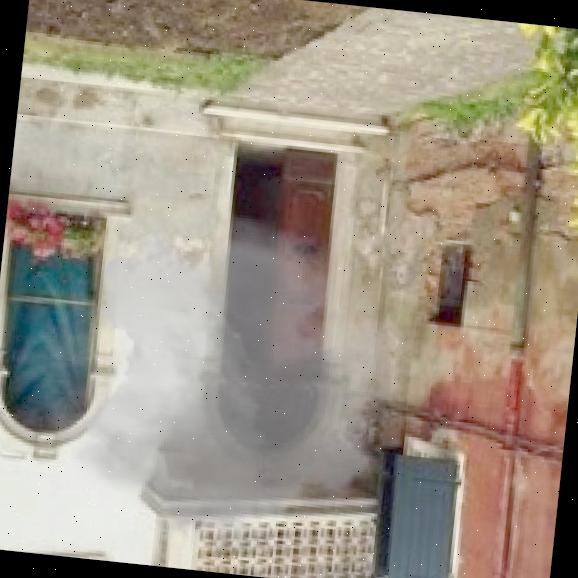smoke: (0, 192, 438, 578)
